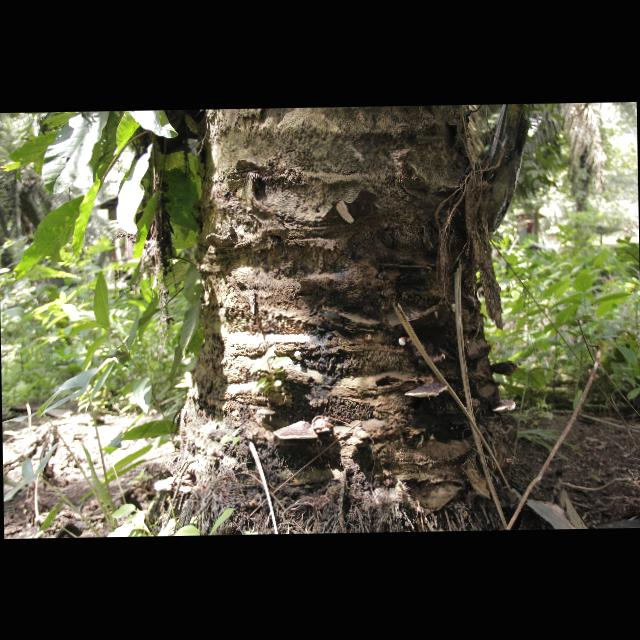ganoderma: (407, 336, 442, 370), (274, 422, 319, 442), (404, 383, 448, 399), (314, 418, 335, 434), (155, 477, 177, 492), (493, 401, 517, 414), (257, 408, 277, 417), (180, 484, 194, 496)
primordium: (295, 352, 304, 362), (208, 450, 218, 459), (399, 338, 407, 347), (452, 304, 457, 314), (441, 355, 446, 361)
